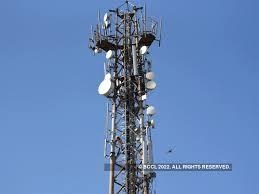Microwave Antenna: (95, 79, 116, 99), (147, 117, 160, 131), (102, 50, 114, 62), (145, 81, 157, 93), (139, 43, 149, 57), (104, 71, 116, 81), (147, 106, 159, 116), (146, 70, 157, 80), (92, 49, 100, 55)
antenna: (130, 44, 141, 77)
